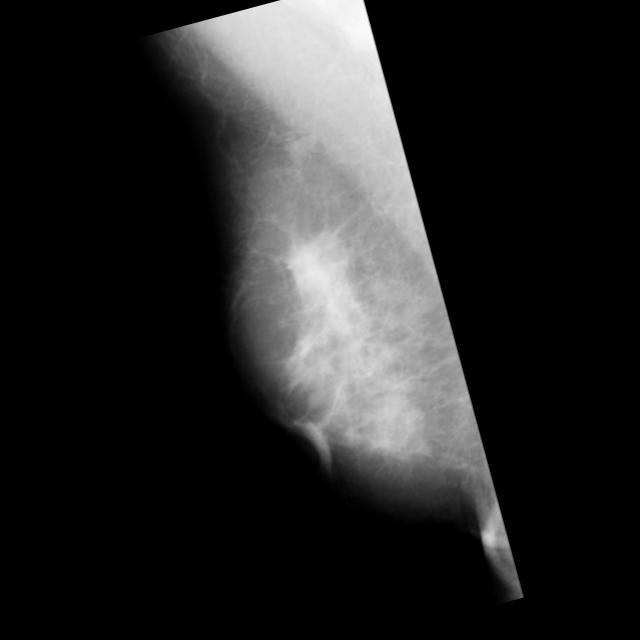SPIC: (264, 210, 372, 318)
